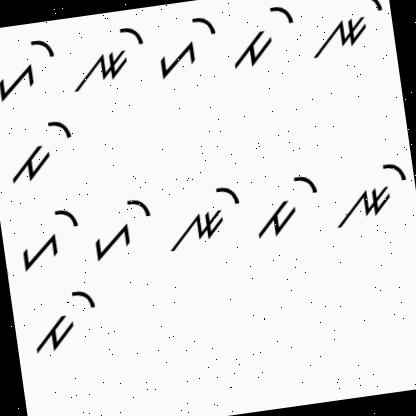hay: (12, 200, 86, 275), (151, 12, 225, 82), (86, 193, 158, 261), (0, 30, 60, 106)
mbay: (0, 110, 79, 188), (248, 165, 326, 242), (23, 285, 102, 360), (222, 0, 300, 73)
nday: (63, 22, 151, 92), (330, 157, 414, 229), (302, 0, 391, 64), (164, 182, 245, 252)
